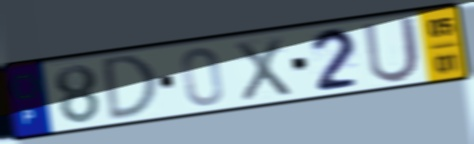0: (180, 46, 226, 109)
2: (309, 24, 364, 96)
8: (51, 61, 103, 127)
D: (101, 52, 161, 124)
U: (361, 14, 424, 85)
X: (232, 34, 295, 104)
